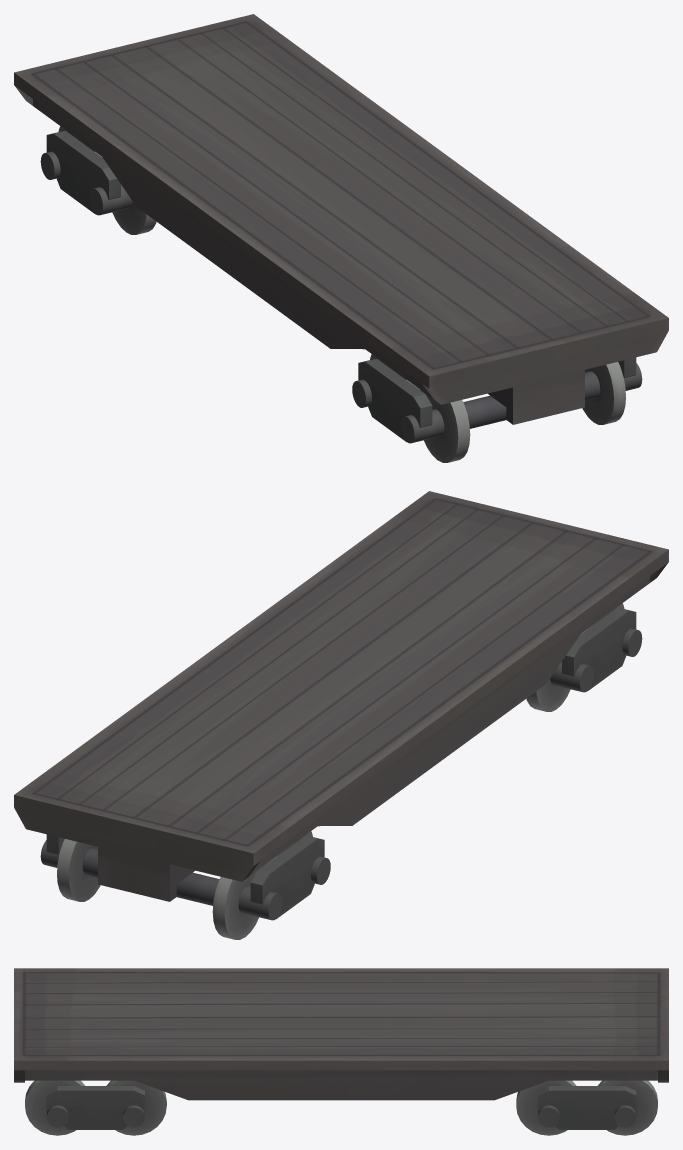
The model's file is RailPlatform6.fbx.
3 renders of one model, top to bottom at view 1: azimuth 30°, elevation 25°; view 2: azimuth 150°, elevation 25°; view 3: azimuth 270°, elevation 25°, orthographic. The views are drawn at different scales.
Visible parts, largest first — view 1: RailPlatform6; view 2: RailPlatform6; view 3: RailPlatform6.
Part boxes in pixels (bbox=[...]): RailPlatform6: bbox=[14, 14, 668, 462]; RailPlatform6: bbox=[14, 491, 668, 939]; RailPlatform6: bbox=[14, 968, 668, 1135].
Bounding box in the file's own units: 200 × 90 × 600.
